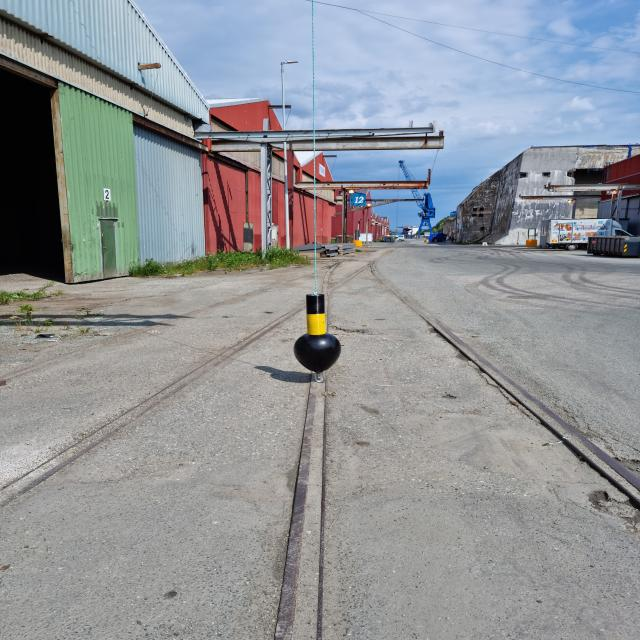east: (294, 295, 340, 372)
